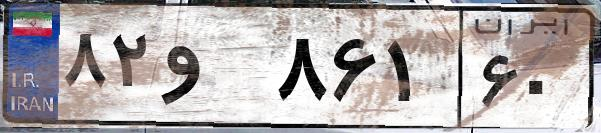0: (525, 38, 570, 115)
1: (385, 28, 445, 110)
2: (110, 28, 158, 98)
6: (330, 28, 385, 110), (475, 38, 525, 113)
8: (270, 28, 330, 110), (57, 26, 110, 100)
و: (158, 20, 270, 120)
